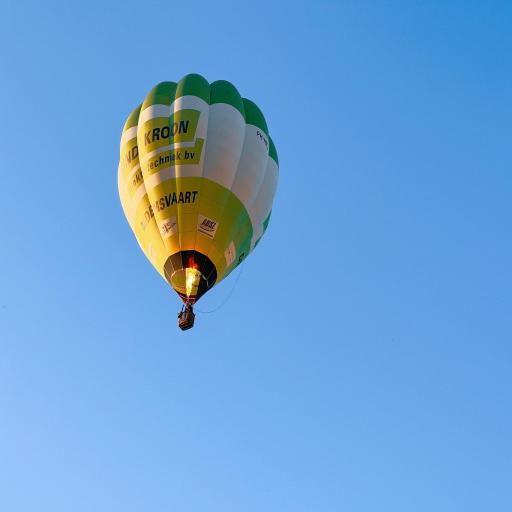hot air ballon: (113, 71, 283, 332)
